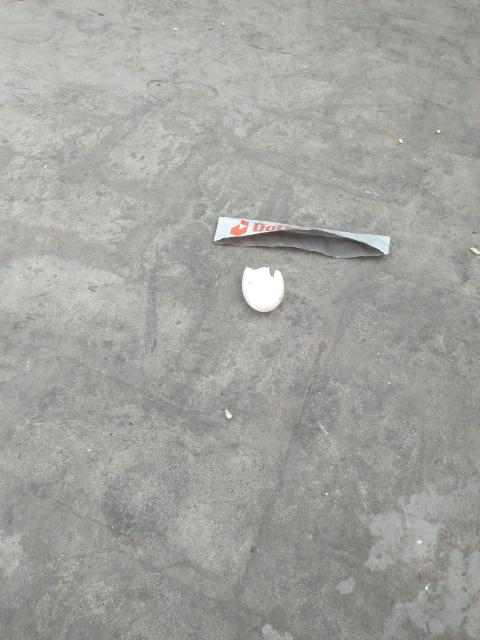Roto: (241, 265, 285, 313)
